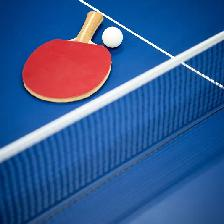WhiteBall: (101, 26, 123, 47)
